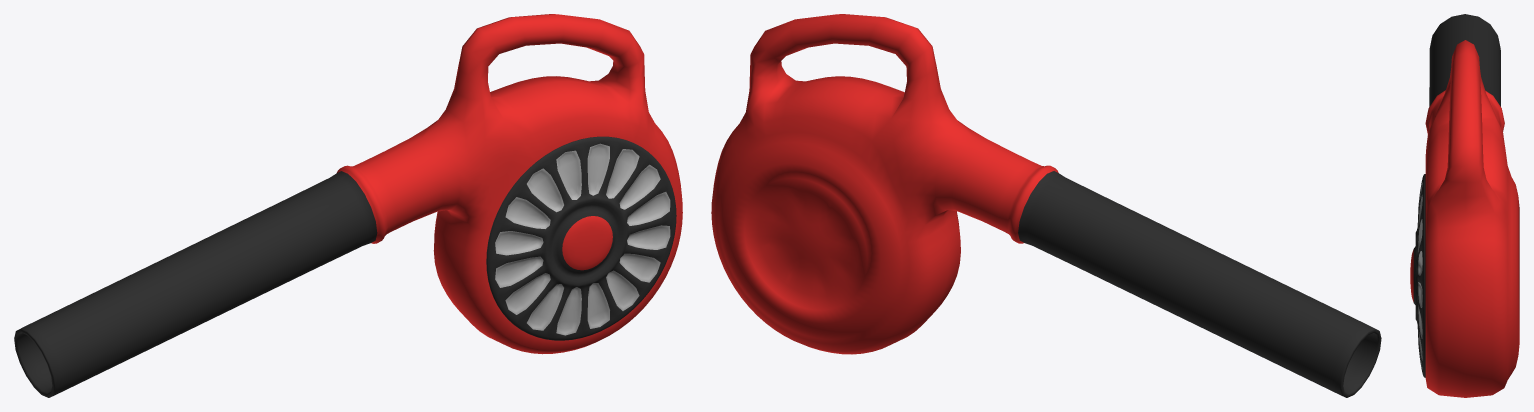
The model's file is Blower.fbx.
3 views of the same model, side by side, from view 1: azimuth 30°, elevation 25°; view 2: azimuth 150°, elevation 25°; view 3: azimuth 270°, elevation 25° (orthographic). The views are drawn at different scales.
Visible parts, largest first — view 1: Blower; view 2: Blower; view 3: Blower.
Part boxes in pixels (x1=…): Blower: x1=14, y1=14, x2=682, y2=397; Blower: x1=711, y1=14, x2=1381, y2=397; Blower: x1=1410, y1=14, x2=1519, y2=397.
Size of the model in its own units: 49.24 by 24.63 by 7.8.
